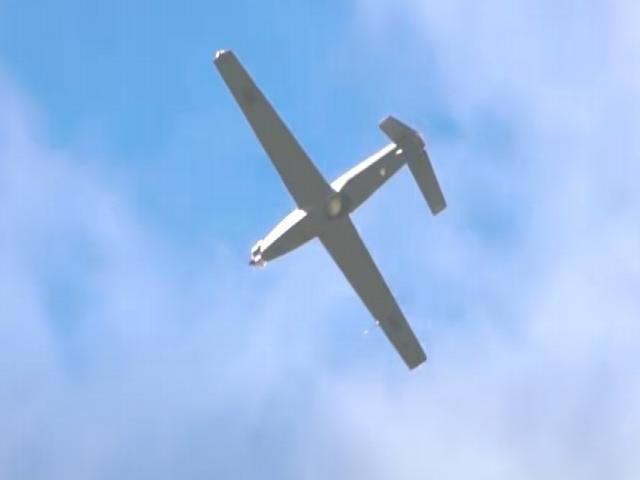iha: (208, 42, 450, 373)
